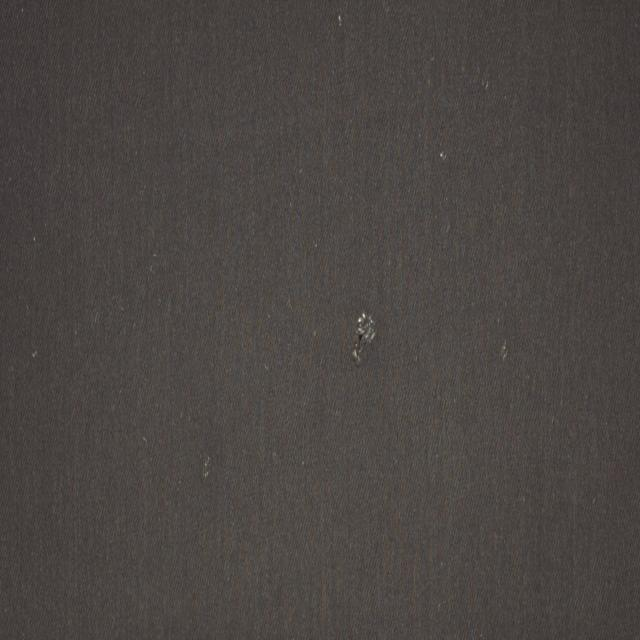Hole: (347, 302, 383, 366)
